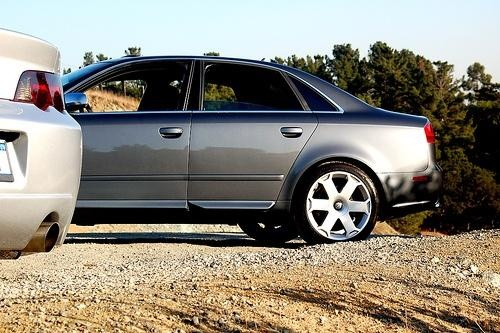car: (1, 57, 441, 240), (1, 27, 83, 255)
